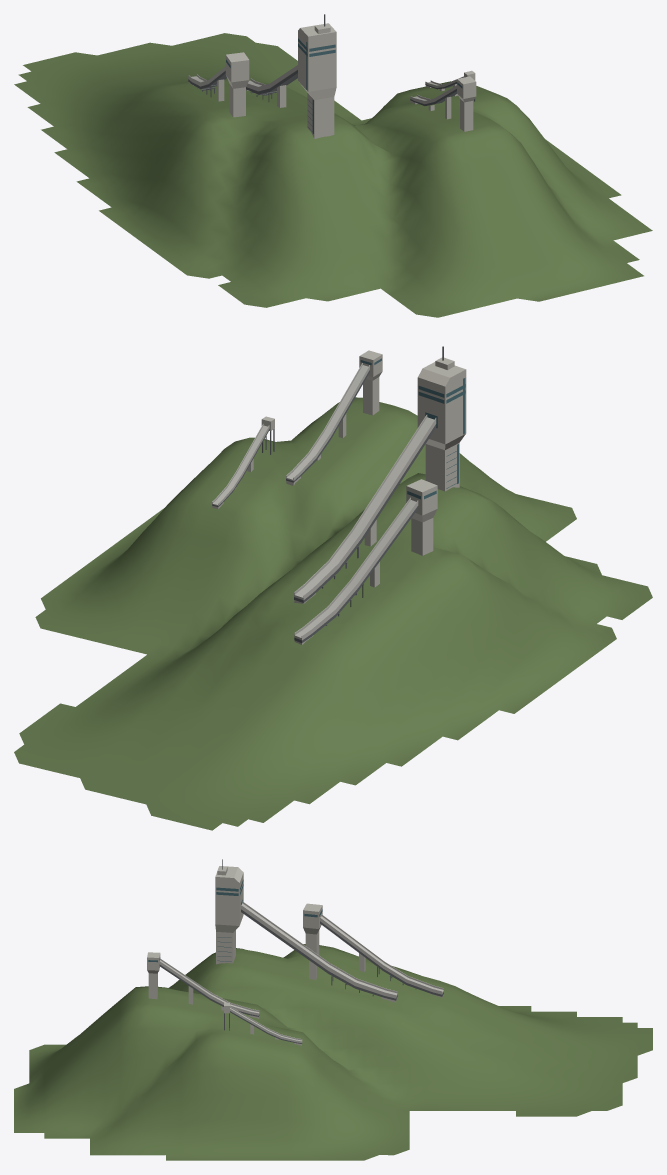
Rendered from canada-olympic-park-far.glb.
3 renders of one model, top to bottom at view 1: azimuth 30°, elevation 25°; view 2: azimuth 150°, elevation 25°; view 3: azimuth 270°, elevation 25°, orthographic. The views are drawn at different scales.
Visible parts, largest first — view 1: canada-olympic-park-0-grass, canada-olympic-park-0-concrete, canada-olympic-park-0-clad, canada-olympic-park-0-steel, canada-olympic-park-0-glass; view 2: canada-olympic-park-0-grass, canada-olympic-park-0-concrete, canada-olympic-park-0-clad, canada-olympic-park-0-steel, canada-olympic-park-0-glass; view 3: canada-olympic-park-0-grass, canada-olympic-park-0-concrete, canada-olympic-park-0-clad, canada-olympic-park-0-steel.
Part boxes in pixels (bbox=[...]): canada-olympic-park-0-grass: bbox=[14, 33, 652, 317]; canada-olympic-park-0-concrete: bbox=[188, 23, 476, 138]; canada-olympic-park-0-clad: bbox=[188, 65, 463, 104]; canada-olympic-park-0-steel: bbox=[188, 14, 475, 105]; canada-olympic-park-0-glass: bbox=[226, 38, 462, 133]; canada-olympic-park-0-grass: bbox=[14, 397, 652, 830]; canada-olympic-park-0-concrete: bbox=[212, 350, 466, 644]; canada-olympic-park-0-clad: bbox=[212, 363, 436, 640]; canada-olympic-park-0-steel: bbox=[212, 346, 443, 642]; canada-olympic-park-0-glass: bbox=[360, 358, 465, 499]; canada-olympic-park-0-grass: bbox=[14, 944, 652, 1160]; canada-olympic-park-0-concrete: bbox=[147, 866, 443, 1045]; canada-olympic-park-0-clad: bbox=[159, 901, 443, 1043]; canada-olympic-park-0-steel: bbox=[159, 859, 443, 1043].
Bounding box in the file's own units: 247 × 128 × 389.
